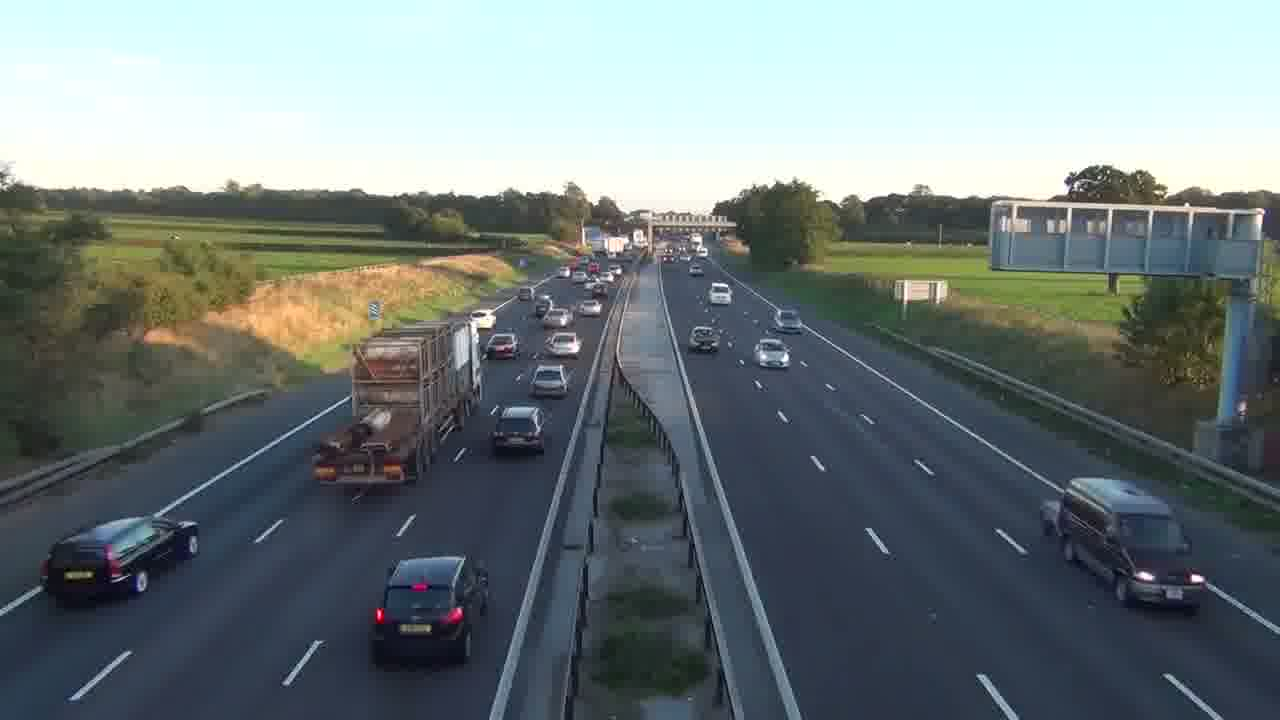car: (369, 553, 491, 667), (490, 404, 547, 455), (529, 363, 569, 398), (755, 338, 790, 369), (484, 332, 518, 359), (546, 332, 582, 357)
truck: (311, 318, 485, 490), (1054, 476, 1206, 615), (40, 515, 198, 608)
